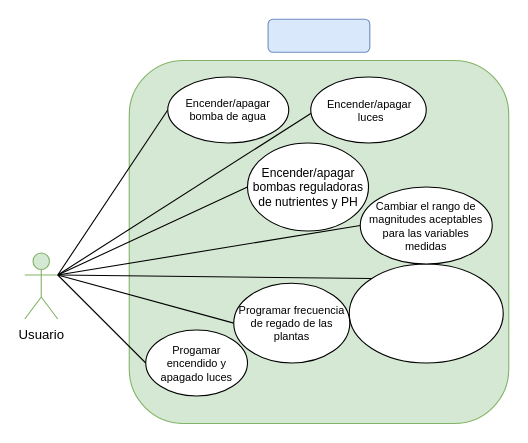
Some shapes in this 528 by 443 pixel diagram are drawn without their labels. Each missing label, with the box of its shape:
Sistema de cultivos hidropónico casero: (267, 18, 370, 52)
Ver las mediciones de variables ambientales.: (348, 263, 503, 363)
